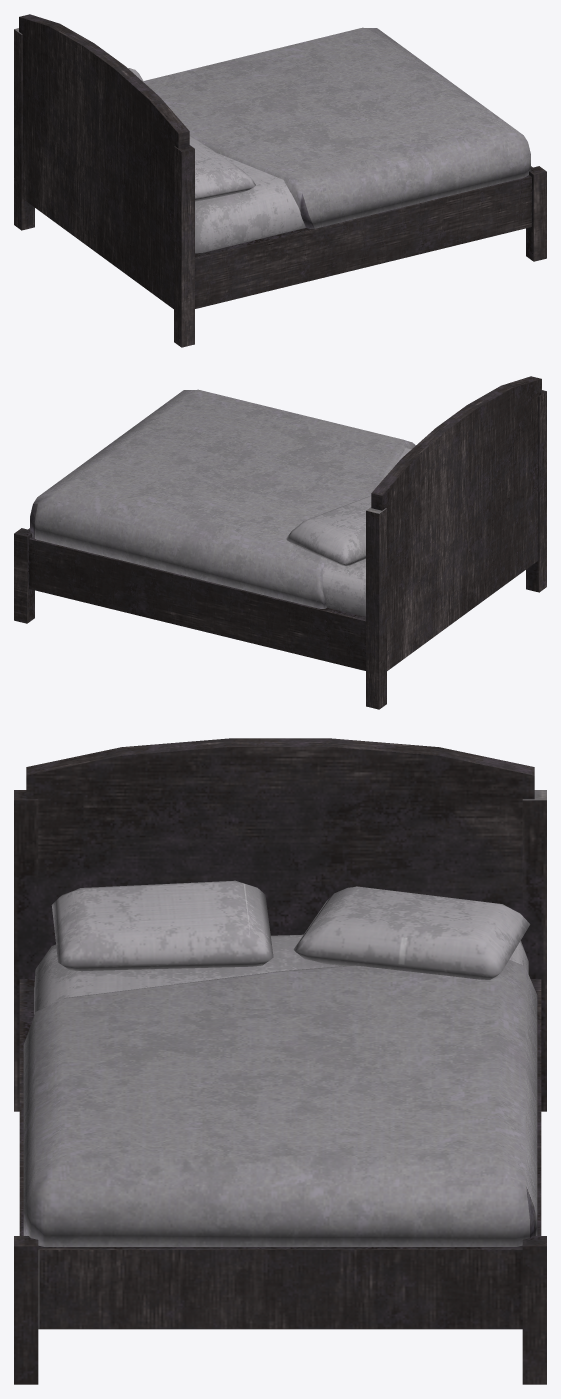
File: Old Bed (LPoly).fbx
3 views of the same model, one above another, from view 1: azimuth 30°, elevation 25°; view 2: azimuth 150°, elevation 25°; view 3: azimuth 270°, elevation 25° (orthographic). The views are drawn at different scales.
Parts seen in each view (by area): view 1: Bed; view 2: Bed; view 3: Bed.
Part boxes in pixels (box(x1,y1,x2,y2)): Bed: box(14, 14, 546, 347); Bed: box(14, 376, 546, 709); Bed: box(14, 738, 546, 1384).
Bounding box in the file's own units: 194 × 116 × 154.
1 material, 1 textured.
